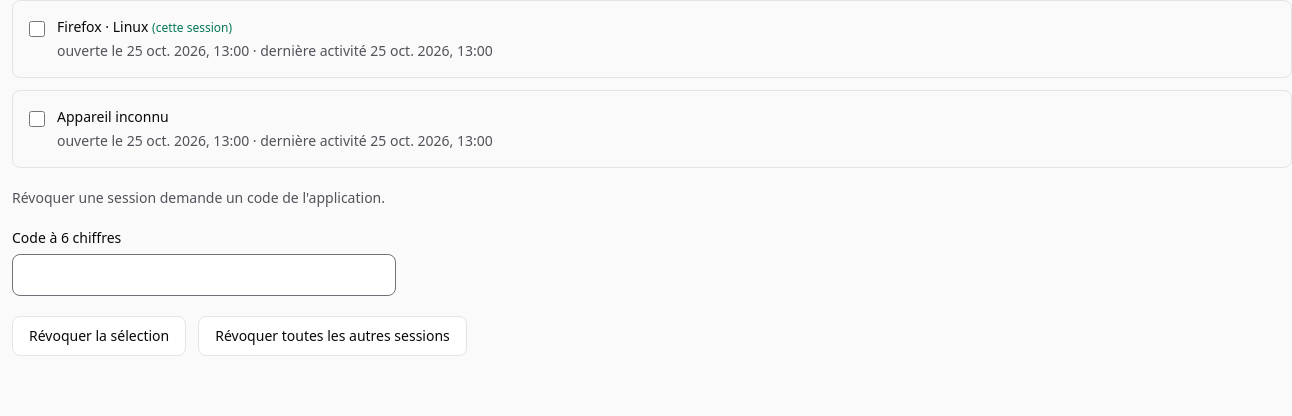
it: admin forms › SessionsForm › keeps the chosen sessions ticked when the code is refused
In the field labelled "Code à 6 chiffres": x=204, y=275 top-left (12, 254), bottom-right (396, 296), type "000000"
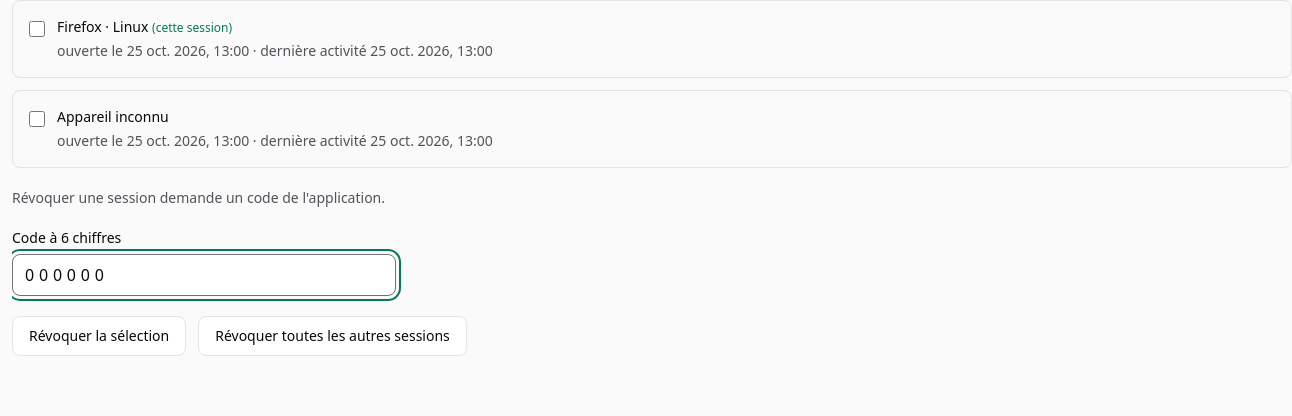
Click the button "Révoquer toutes les autres sessions": x=332, y=336 top-left (198, 316), bottom-right (467, 356)
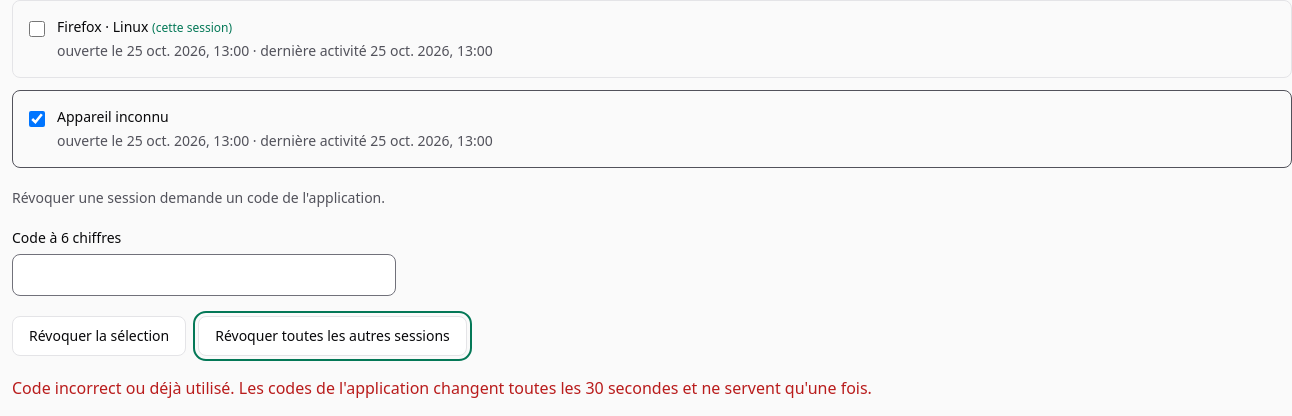
Expected: the checkbox labelled "cette session" is not checked, top-left (29, 21), bottom-right (45, 37)
Now the message shows "Code incorrect ou déjà utilisé.", box top-left (12, 377), bottom-right (872, 399)
Now the checkbox labelled "Appareil inconnu" is checked, box top-left (29, 111), bottom-right (45, 127)
